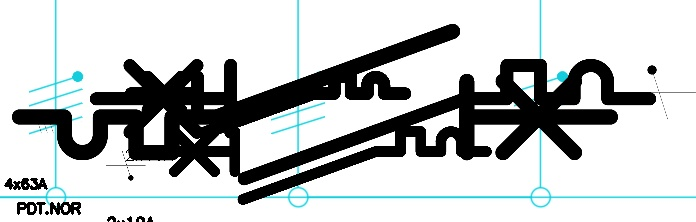interruptor_termomagnetico: (4, 16, 625, 168), (81, 51, 663, 193), (145, 123, 494, 208), (124, 70, 412, 140)
